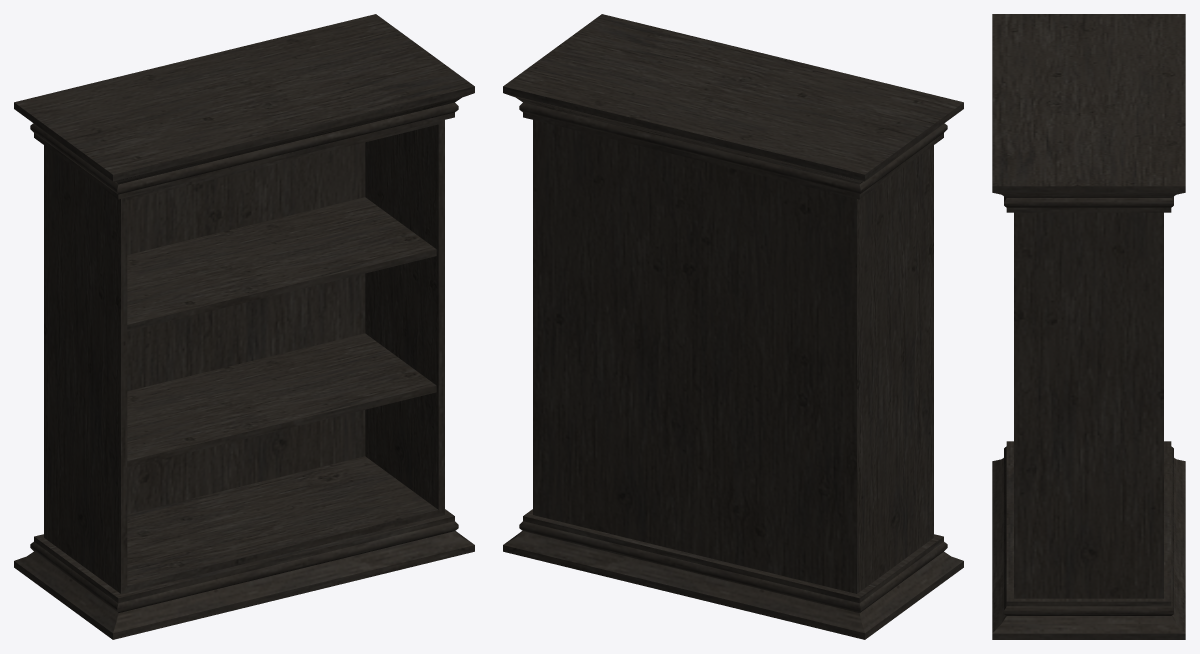
Rendered from shelf_mp_3.obj.
3 views of the same model, side by side, from view 1: azimuth 30°, elevation 25°; view 2: azimuth 150°, elevation 25°; view 3: azimuth 270°, elevation 25° (orthographic). The views are drawn at different scales.
Visible parts, largest first — view 1: shelf_mp_3; view 2: shelf_mp_3; view 3: shelf_mp_3.
Part boxes in pixels (x1=…): shelf_mp_3: x1=14, y1=14, x2=474, y2=639; shelf_mp_3: x1=503, y1=14, x2=963, y2=639; shelf_mp_3: x1=992, y1=14, x2=1185, y2=639.
Size of the model in its own units: 1.14 by 1.4 by 0.54.
